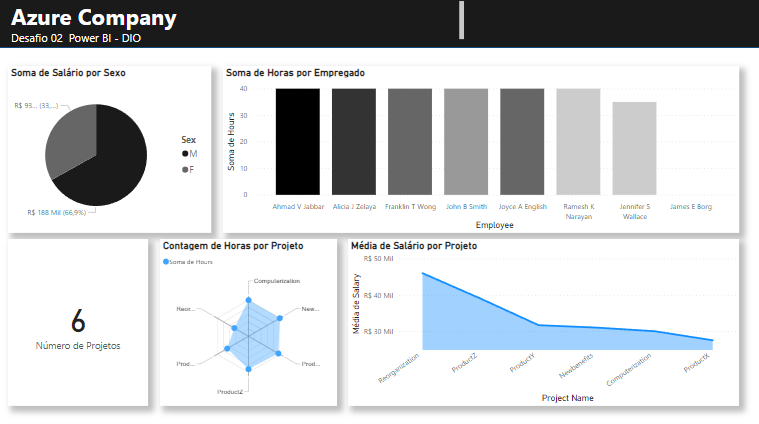

What the dashboard file says about the page in this screenshot:
{"tool":"powerbi","page":{"name":"Página 1","canvas":[1280,720],"ordinal":0},"visuals":[{"type":"pieChart","title":"Soma de Salário por Sexo","fields":{"Y":["azure_company employee.Salary"],"Category":["azure_company employee.Sex"]},"box":[15.1,114.1,340.6,280.2],"z":0},{"type":"shape","box":[0,0,1280,83.9],"z":1000},{"type":"textbox","box":[15.1,0,770,78.8],"z":2000},{"type":"clusteredColumnChart","title":"Soma de Horas por Empregado","fields":{"Category":["employee-project.Employee"],"Y":["employee-project.Hours"]},"box":[375.8,114.1,865.6,280.2],"z":3000},{"type":"card","fields":{"Values":["azure_company project.Project ID"]},"box":[15.1,404.3,234.9,280.2],"z":4000},{"type":"stackedAreaChart","title":"Média de Salário por Projeto","fields":{"Y":["employee-project.Salary"],"Category":["employee-project.Project Name"]},"box":[585.5,404.3,655.9,280.2],"z":5000},{"type":"RadarChart1446119667547","title":"Contagem de Horas por Projeto","fields":{"Y":["employee-project.Hours"],"Category":["employee-project.Project Name"]},"box":[270.1,404.3,296.9,280.2],"z":5001}]}

Visuals, with their boxes in screenshot pixels (x1, y1, x2, y2), scaled from the page's 1280x720 canvas onto the 759x424 screenshot:
"Soma de Salário por Sexo" pieChart: {"x1": 9, "y1": 67, "x2": 211, "y2": 232}
shape: {"x1": 0, "y1": 0, "x2": 758, "y2": 49}
textbox: {"x1": 9, "y1": 0, "x2": 466, "y2": 46}
"Soma de Horas por Empregado" clusteredColumnChart: {"x1": 223, "y1": 67, "x2": 736, "y2": 232}
card - azure_company project.Project ID: {"x1": 9, "y1": 238, "x2": 148, "y2": 403}
"Média de Salário por Projeto" stackedAreaChart: {"x1": 347, "y1": 238, "x2": 736, "y2": 403}
"Contagem de Horas por Projeto" RadarChart1446119667547: {"x1": 160, "y1": 238, "x2": 336, "y2": 403}
